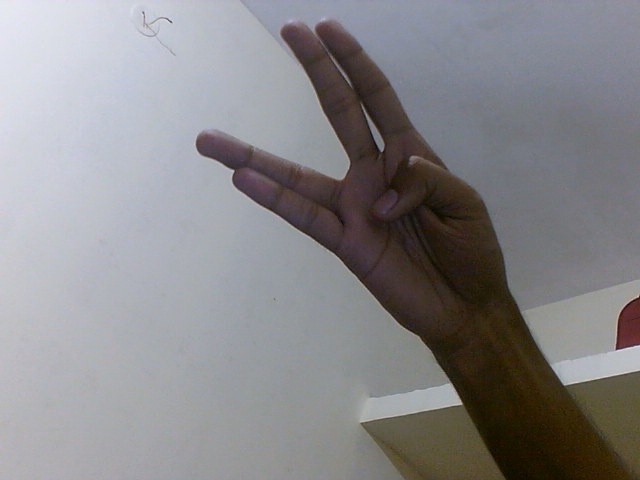hand: (193, 13, 514, 357)
